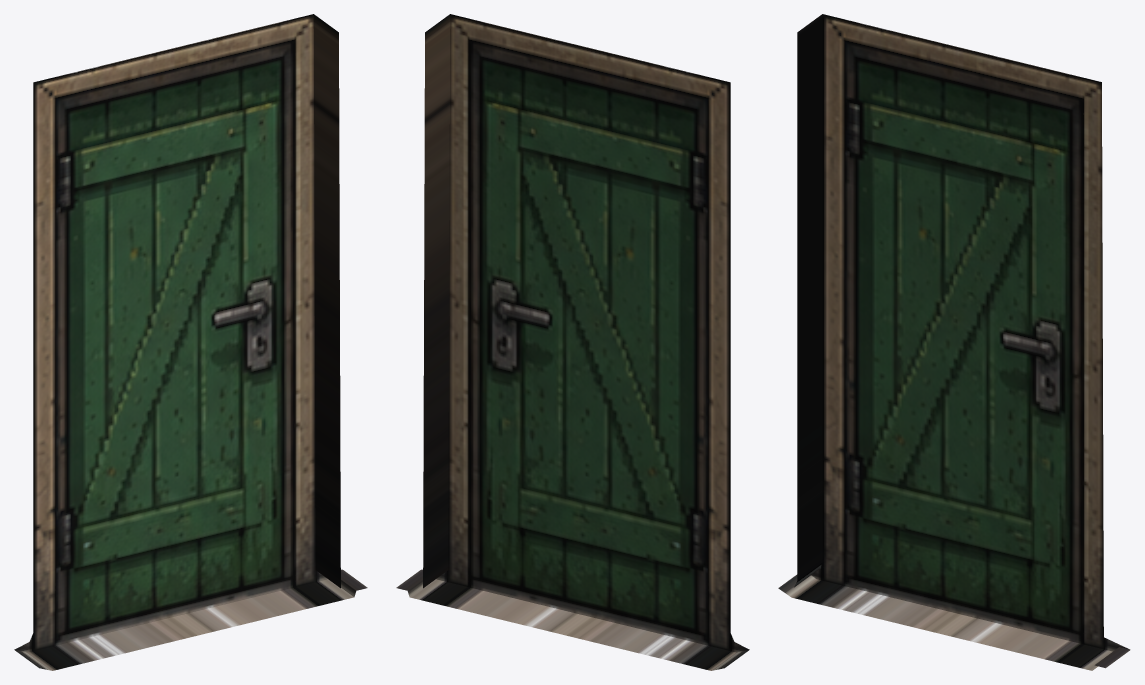
File: props_04.glb
3 renders of one model, left to right at view 1: azimuth 30°, elevation 25°; view 2: azimuth 150°, elevation 25°; view 3: azimuth 330°, elevation 25°, orthographic.
Visible parts, largest first — view 1: world; view 2: world; view 3: world.
Boxes of the visible parts, x1,y1,x2,y2 form: world: [14, 14, 367, 670]; world: [396, 14, 749, 670]; world: [778, 14, 1130, 670].
Bounding box in the file's own units: 1.7 × 2.81 × 0.2256.
Materials: 1 (1 with a texture image).
